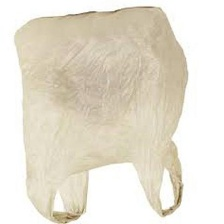plastic_bag: (10, 4, 206, 223)
